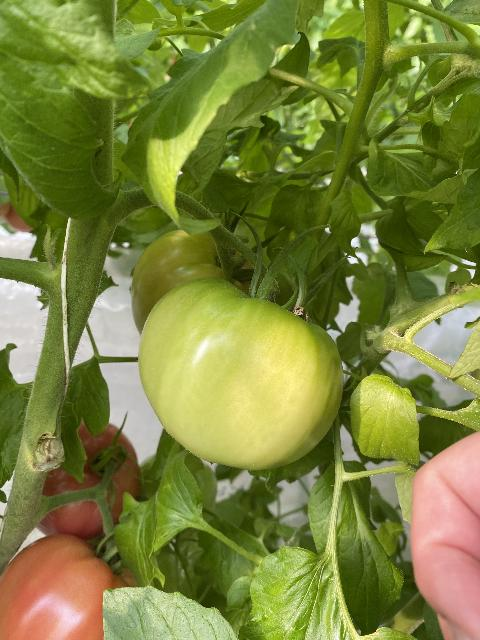b_fully_ripened: (35, 418, 142, 540)
b_green: (136, 277, 343, 471), (131, 228, 266, 335)
b_half_ripened: (0, 534, 139, 640)
